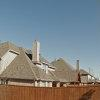Chimney: (27, 28, 44, 74)
